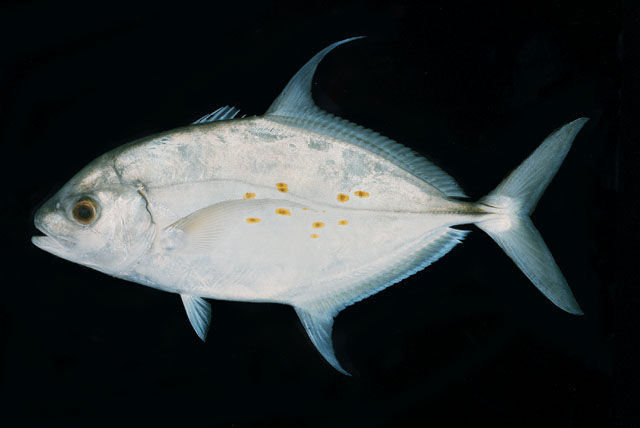fish: (32, 36, 588, 376)
